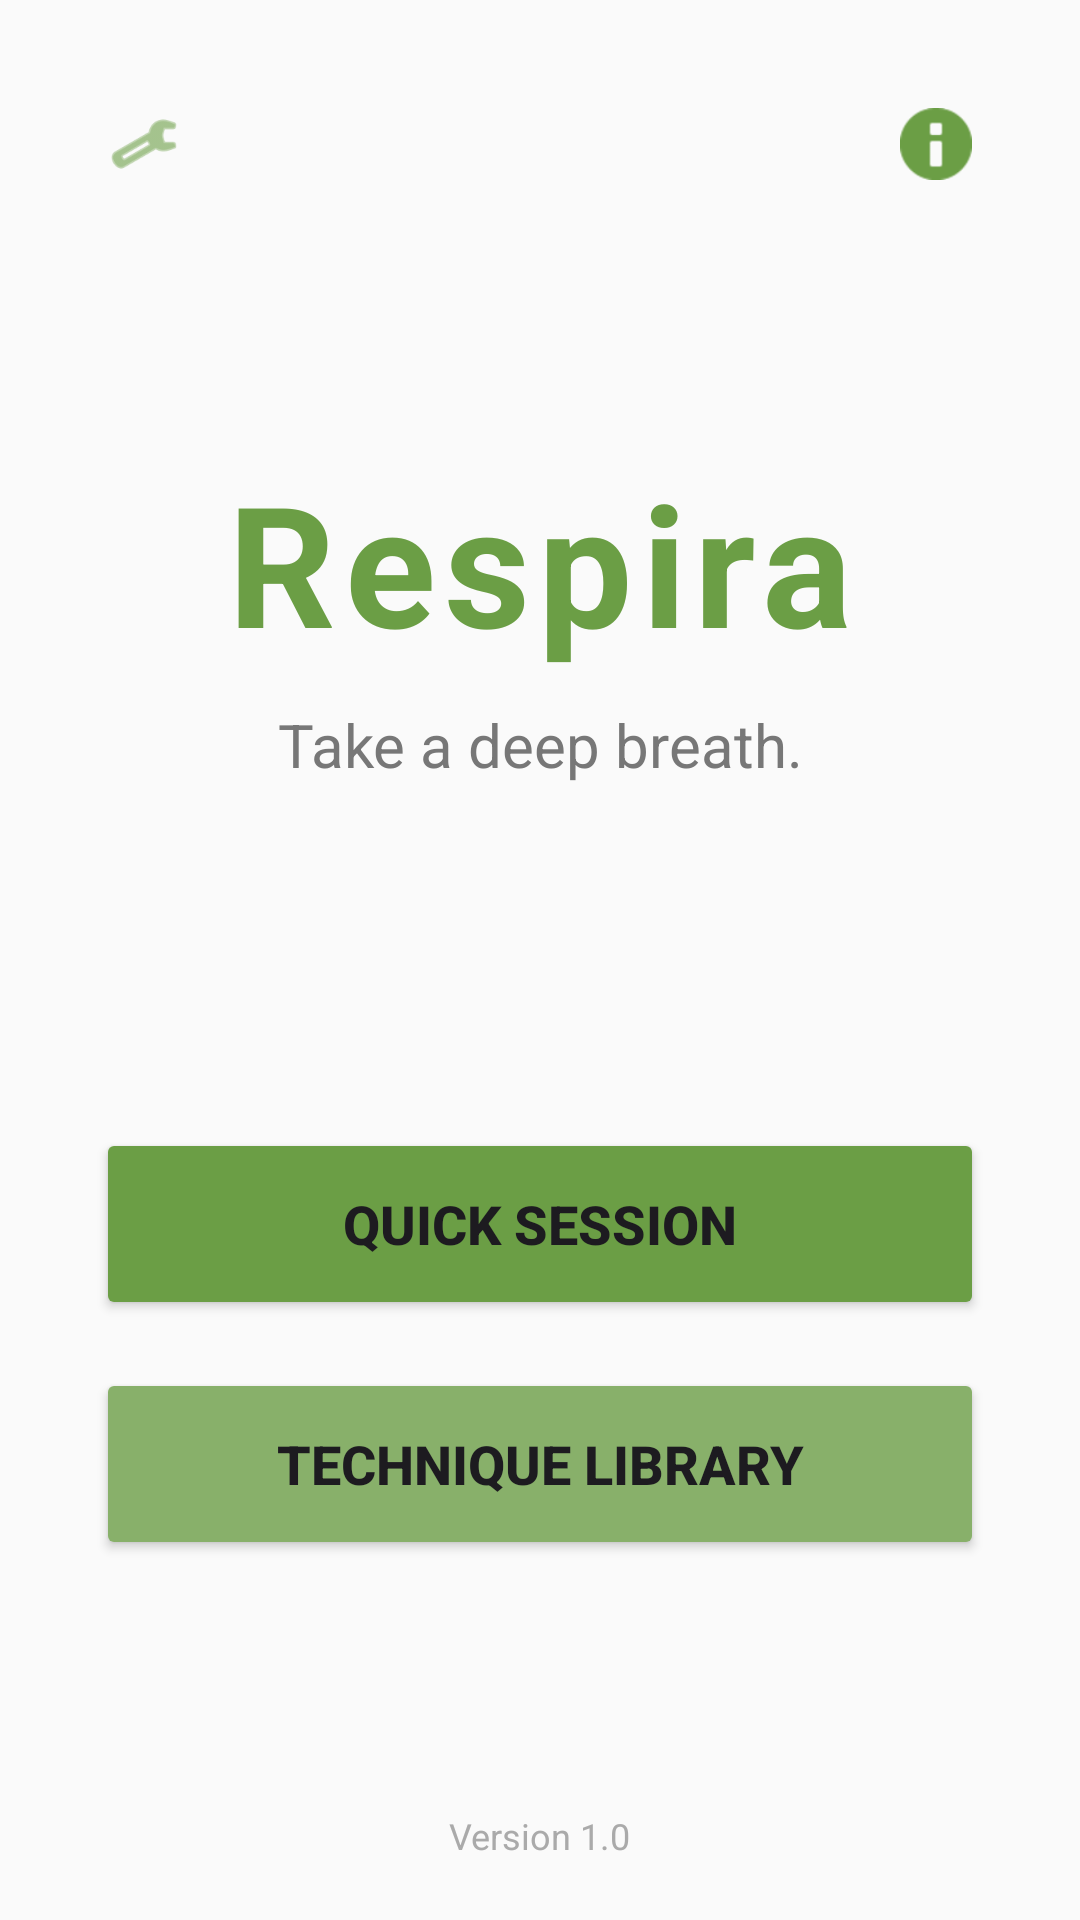

Icon bounding boxes for this 1080 x 1920 phone screenshot, format bbox(x1, y1, x2, y2):
Information: bbox(900, 108, 972, 180)
Settings: bbox(112, 119, 176, 169)
